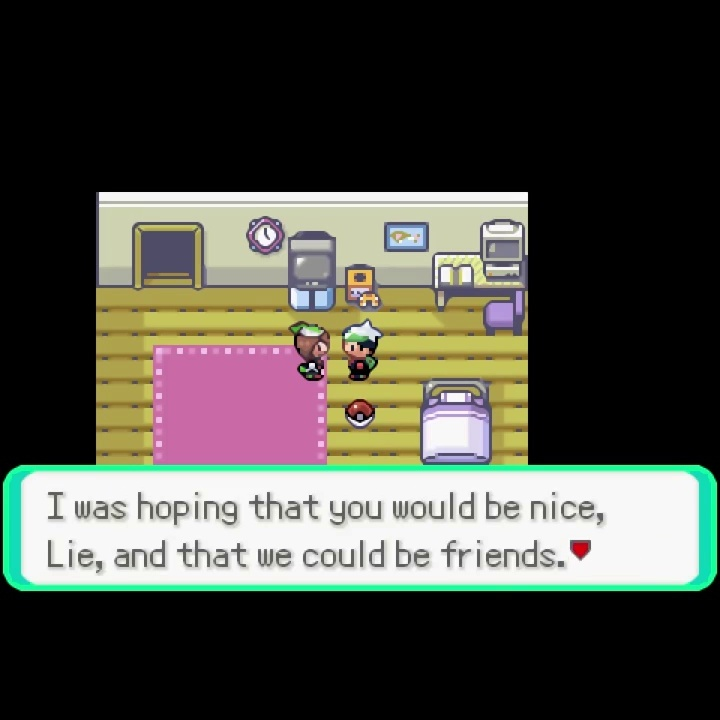npc: (338, 316, 386, 387), (287, 318, 332, 385)
